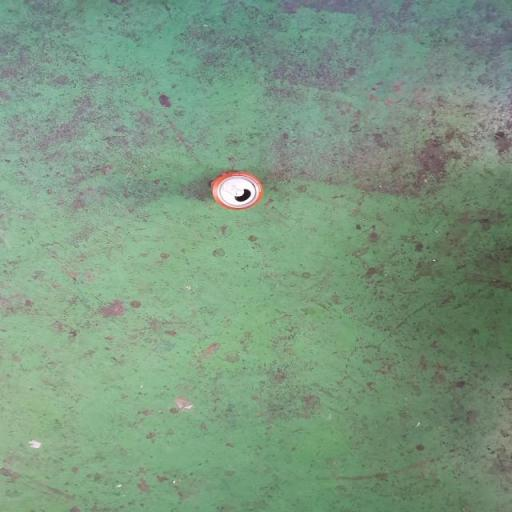metal: (197, 164, 265, 218)
